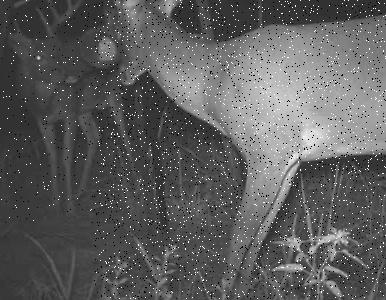Deer: (94, 0, 386, 299), (0, 0, 136, 223)
